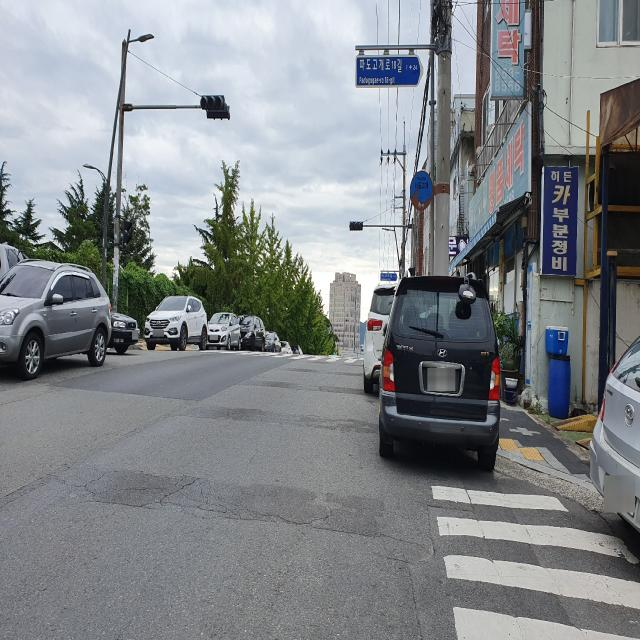횡단보도: (432, 486, 640, 640)
